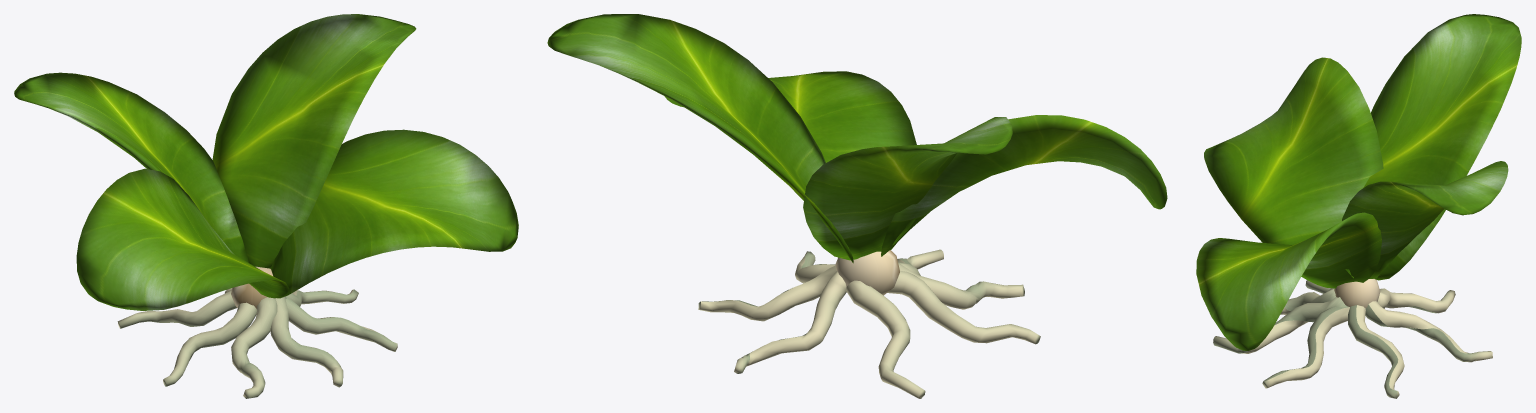
Rendered from NP_Orchid_Young_LOD1.fbx.
3 renders of one model, left to right at view 1: azimuth 30°, elevation 25°; view 2: azimuth 150°, elevation 25°; view 3: azimuth 270°, elevation 25°, orthographic. The views are drawn at different scales.
Visible parts, largest first — view 1: NP_Orchid_Young; view 2: NP_Orchid_Young; view 3: NP_Orchid_Young.
Part boxes in pixels (x1,y1,x2,y2): NP_Orchid_Young: (14,14,518,398); NP_Orchid_Young: (547,14,1167,398); NP_Orchid_Young: (1196,14,1521,398).
Size of the model in its own units: 59.41 by 32.22 by 38.96.
